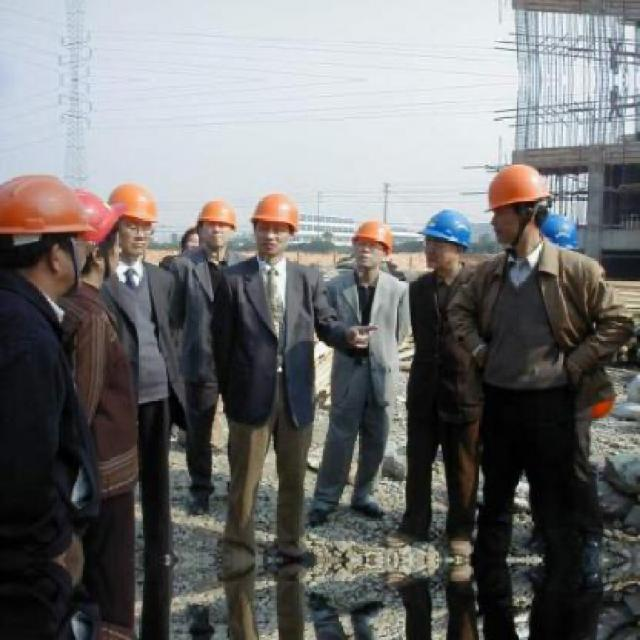helmet: (5, 174, 89, 297), (483, 160, 551, 248), (108, 178, 160, 262), (248, 188, 302, 262), (420, 205, 475, 277), (78, 187, 122, 276), (528, 212, 580, 276), (348, 216, 392, 278), (197, 196, 238, 256)
